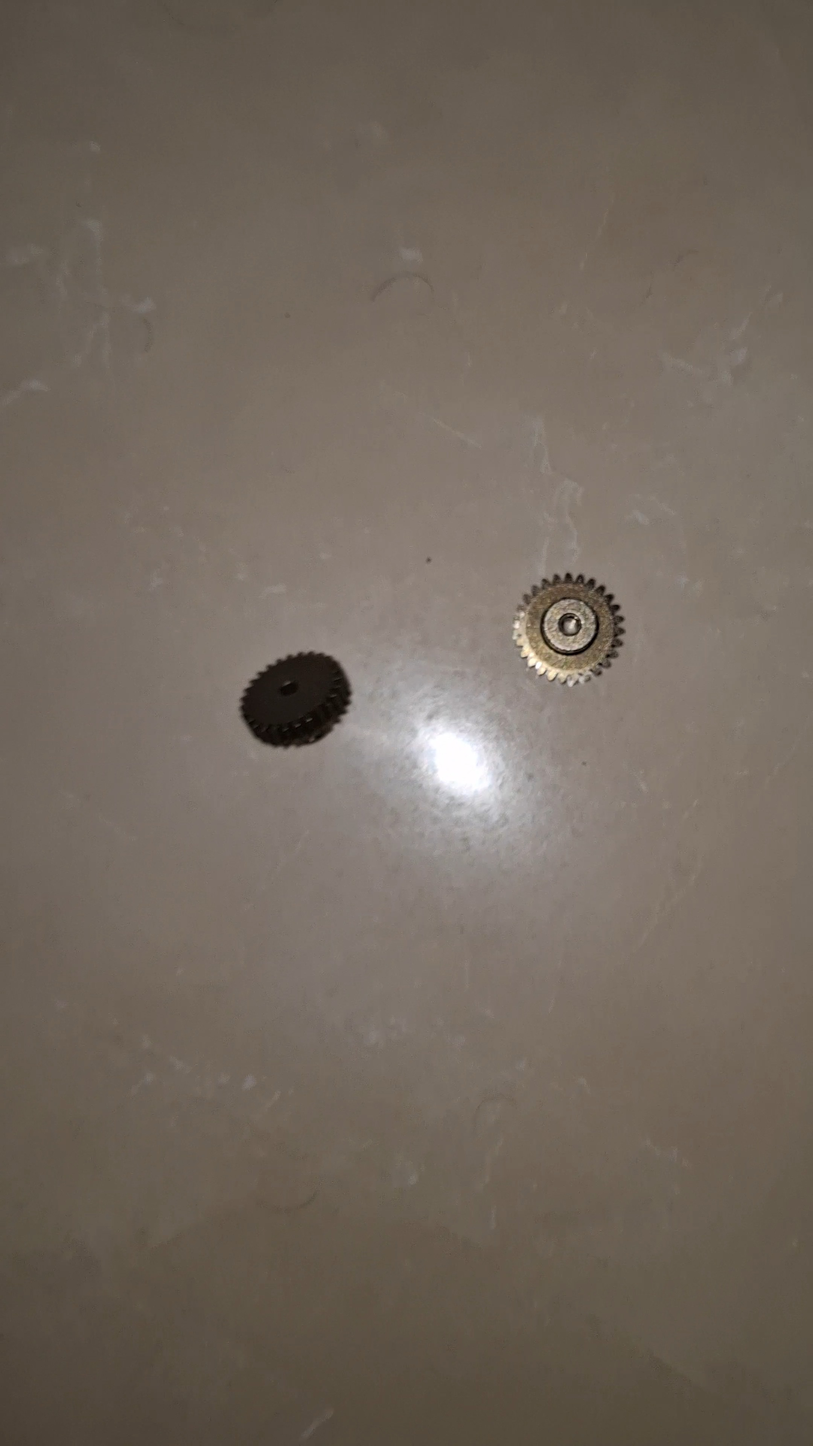spur gear: (513, 573, 624, 685), (241, 653, 350, 746)
